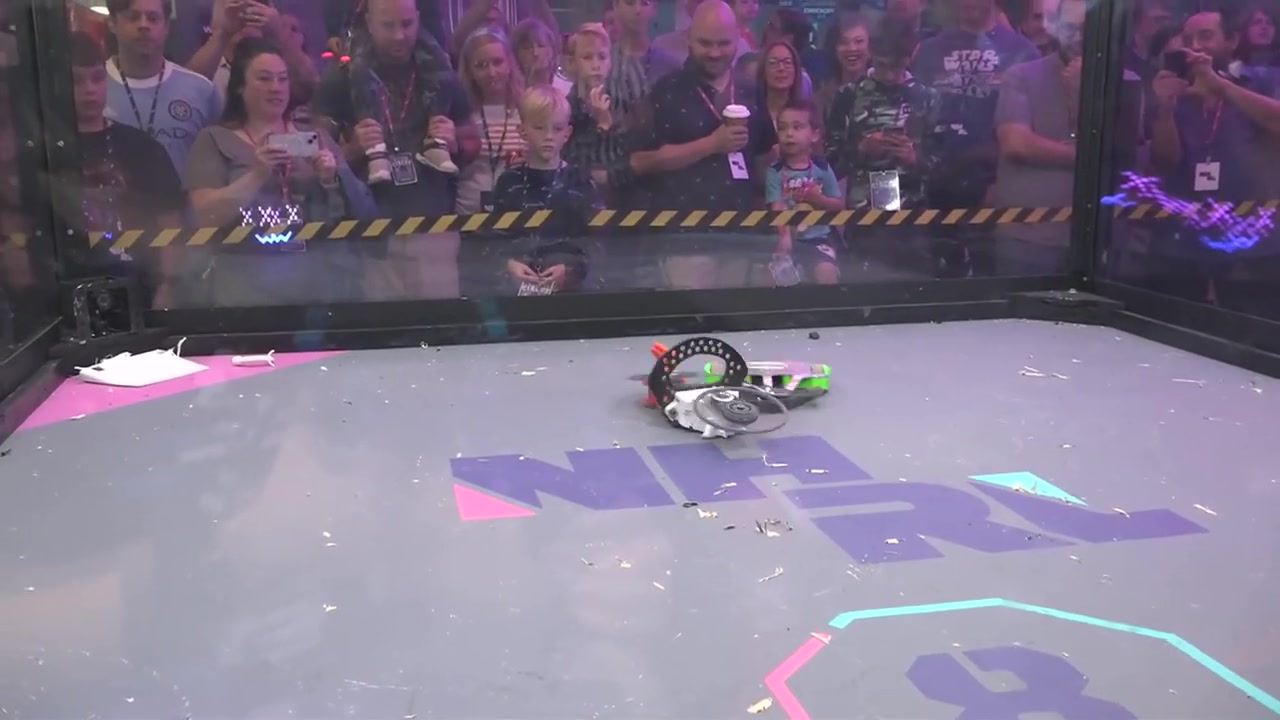combatbot: (626, 364, 787, 438), (704, 360, 835, 408), (76, 348, 204, 385)
